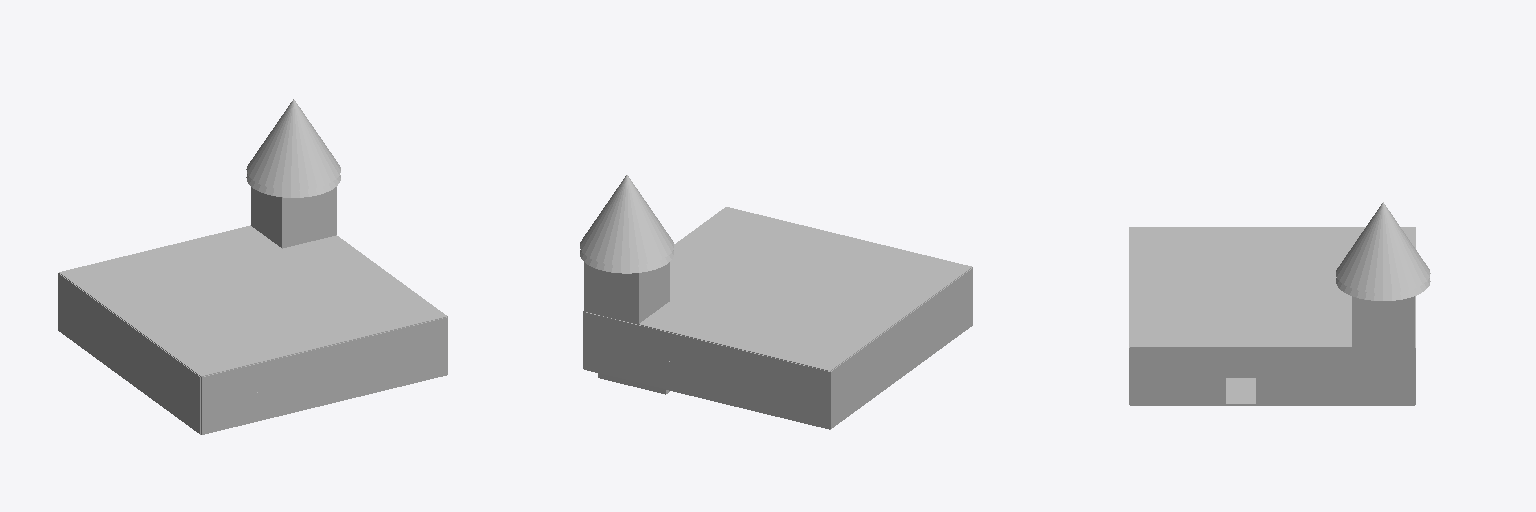
The model's file is house.obj.
3 views of the same model, side by side, from view 1: azimuth 30°, elevation 25°; view 2: azimuth 150°, elevation 25°; view 3: azimuth 270°, elevation 25° (orthographic).
Parts seen in each view (by area): view 1: Cube, upper_floor, groundFloor, Cube.001; view 2: Cube, groundFloor, upper_floor, Cube.001; view 3: Cube, Cube.001, upper_floor, groundFloor.
Part boxes in pixels (x1,y1,x2,y2): Cube: (59,225,447,376); upper_floor: (58,273,447,405); groundFloor: (58,302,447,434); Cube.001: (246,99,340,248); Cube: (584,207,972,371); groundFloor: (583,297,972,429); upper_floor: (583,268,972,400); Cube.001: (580,175,673,323); Cube: (1130,227,1414,347); Cube.001: (1336,202,1430,346); upper_floor: (1129,227,1415,377); groundFloor: (1129,376,1415,405).
Bounding box in the file's own units: 19.05 × 13.64 × 19.05.